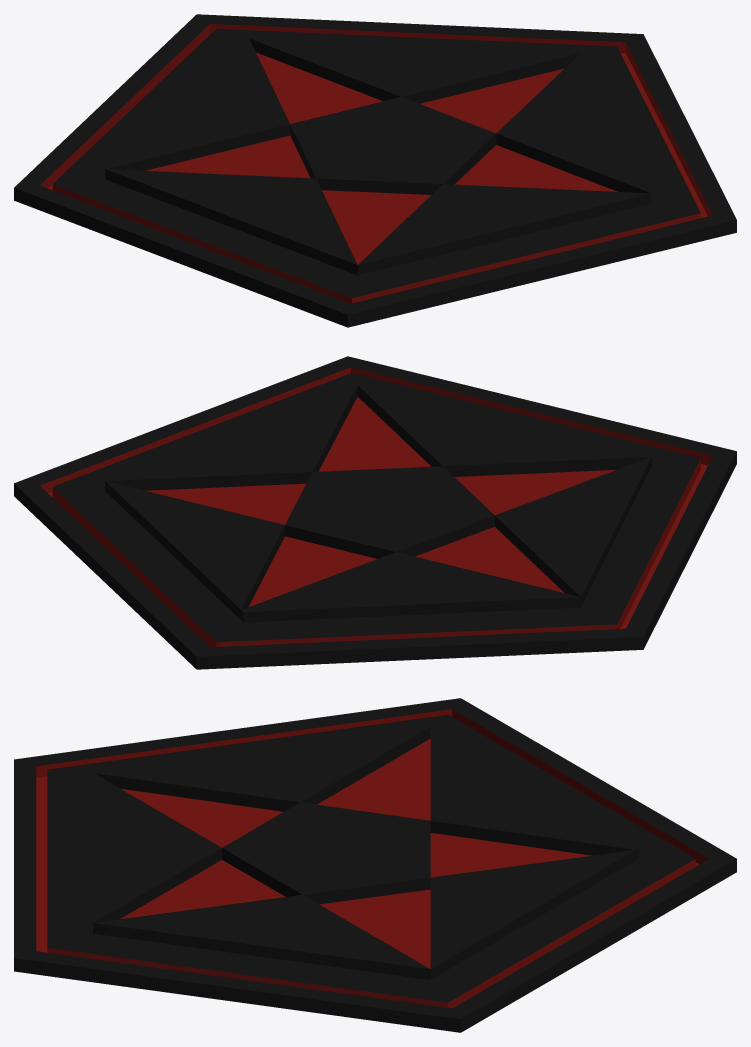
The model's file is Pentagon.fbx.
3 views of the same model, one above another, from view 1: azimuth 30°, elevation 25°; view 2: azimuth 150°, elevation 25°; view 3: azimuth 270°, elevation 25° (orthographic). The views are drawn at different scales.
Parts seen in each view (by area): view 1: Cylinder; view 2: Cylinder; view 3: Cylinder.
Part boxes in pixels (bbox=[...]): Cylinder: bbox=[14, 14, 736, 327]; Cylinder: bbox=[14, 356, 736, 669]; Cylinder: bbox=[14, 698, 736, 1032].
Size of the model in its own units: 190 by 6.72 by 181.
